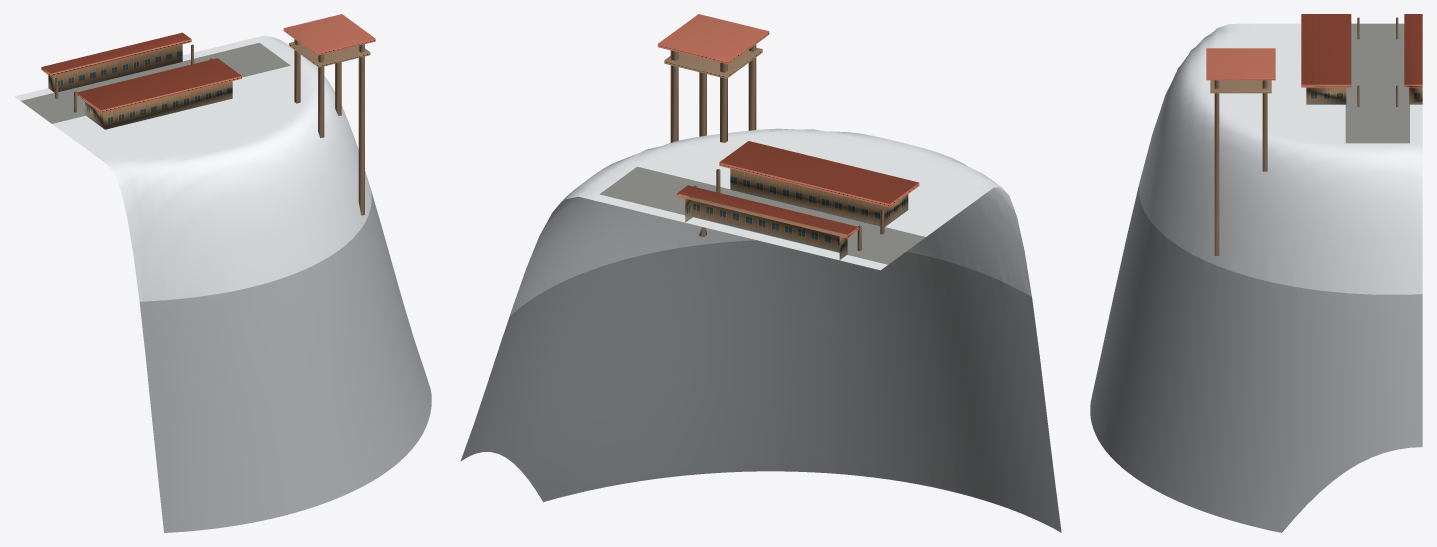
Rendered from alpine-13-12.glb.
The picture shows the model from 3 angles, left to right: view 1: azimuth 30°, elevation 25°; view 2: azimuth 150°, elevation 25°; view 3: azimuth 270°, elevation 25°; orthographic projection. The views are drawn at different scales.
Visible parts, largest first — view 1: alpine-13-12; view 2: alpine-13-12; view 3: alpine-13-12.
Boxes of the visible parts, left/top/right/bottom form: alpine-13-12: left=14, top=14, right=431, bottom=532; alpine-13-12: left=460, top=14, right=1061, bottom=532; alpine-13-12: left=1090, top=14, right=1422, bottom=532.
Size of the model in its own units: 256 by 281 by 207.
11 materials, 11 textured.
